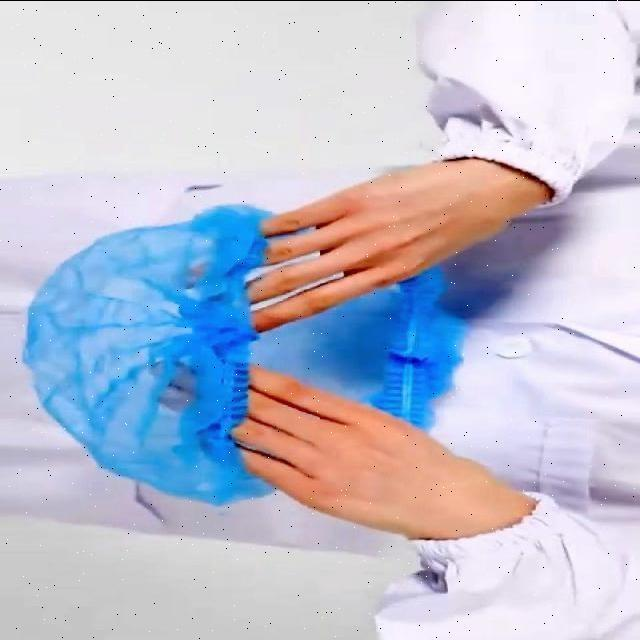gloves: (19, 223, 253, 519)
no_apron: (262, 200, 440, 322), (248, 398, 384, 494)
